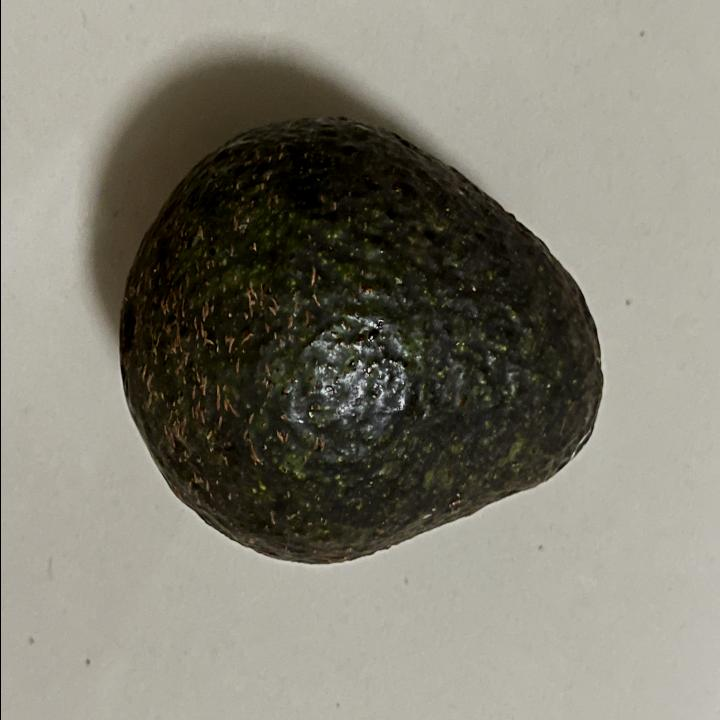Level1: (111, 107, 613, 584)
